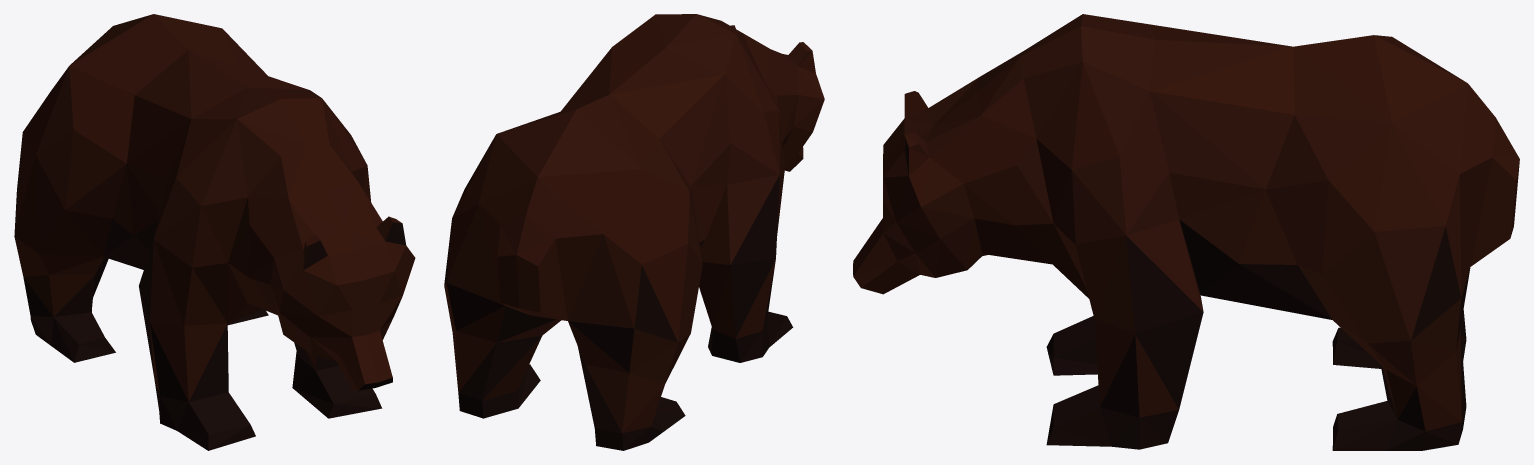
File: Animal_Bear_M1.fbx
The picture shows the model from 3 angles, left to right: view 1: azimuth 30°, elevation 25°; view 2: azimuth 150°, elevation 25°; view 3: azimuth 270°, elevation 25°; orthographic projection. The views are drawn at different scales.
Parts seen in each view (by area): view 1: Animal_Bear_M1; view 2: Animal_Bear_M1; view 3: Animal_Bear_M1.
Part boxes in pixels (x1,y1,x2,y2): Animal_Bear_M1: (14, 14, 415, 450); Animal_Bear_M1: (444, 14, 824, 450); Animal_Bear_M1: (853, 14, 1519, 450).
Size of the model in its own units: 170 by 211 by 345.
